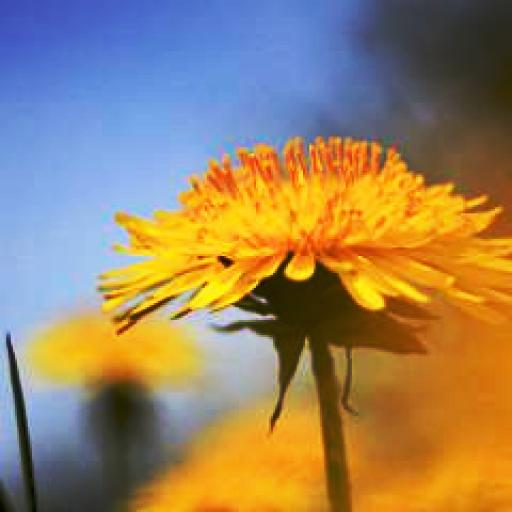dandelion: (109, 134, 510, 350)
